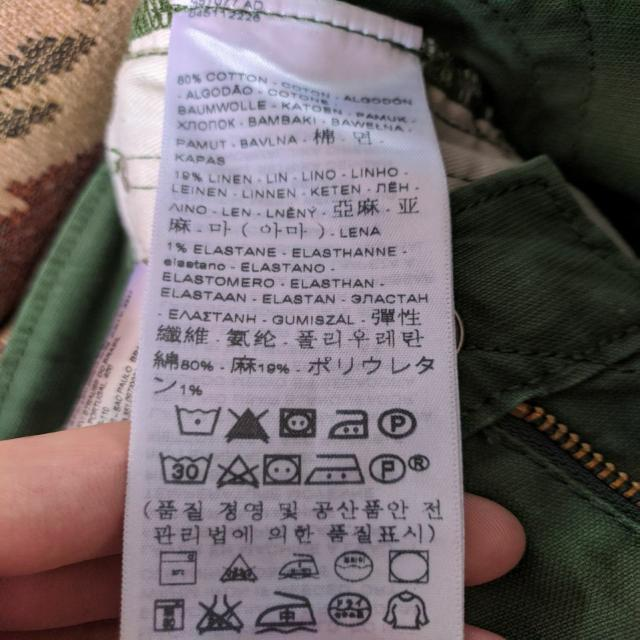30C: (153, 546, 207, 592), (157, 448, 214, 488), (173, 399, 222, 438)
DN_bleach: (223, 402, 271, 443), (218, 454, 257, 489), (219, 552, 258, 585)
dry_clean: (332, 545, 376, 582)
dry_clean_any_solvent_except_trichloroethylene: (377, 405, 418, 443), (366, 452, 409, 485)
iron_medium: (306, 450, 363, 489), (324, 404, 373, 443), (279, 547, 324, 581)
tumble_dry_medium: (259, 448, 306, 489), (276, 403, 319, 443)
tumble_dry_normal: (384, 547, 436, 586)
